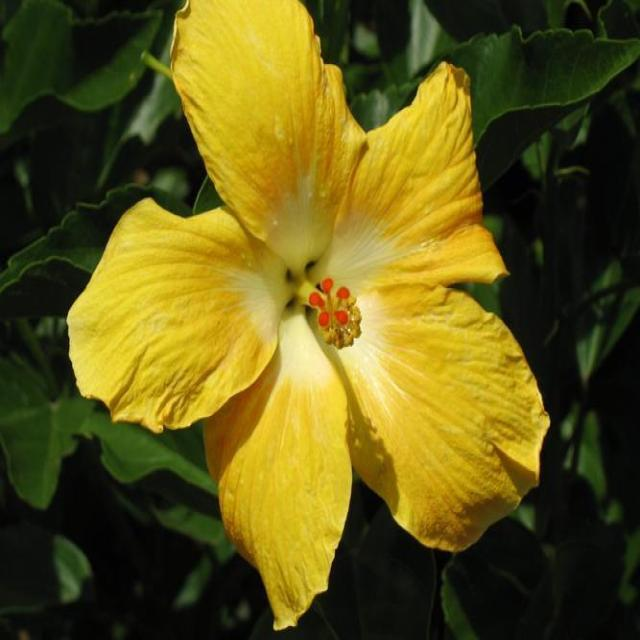hibiscus: (54, 0, 574, 629)
